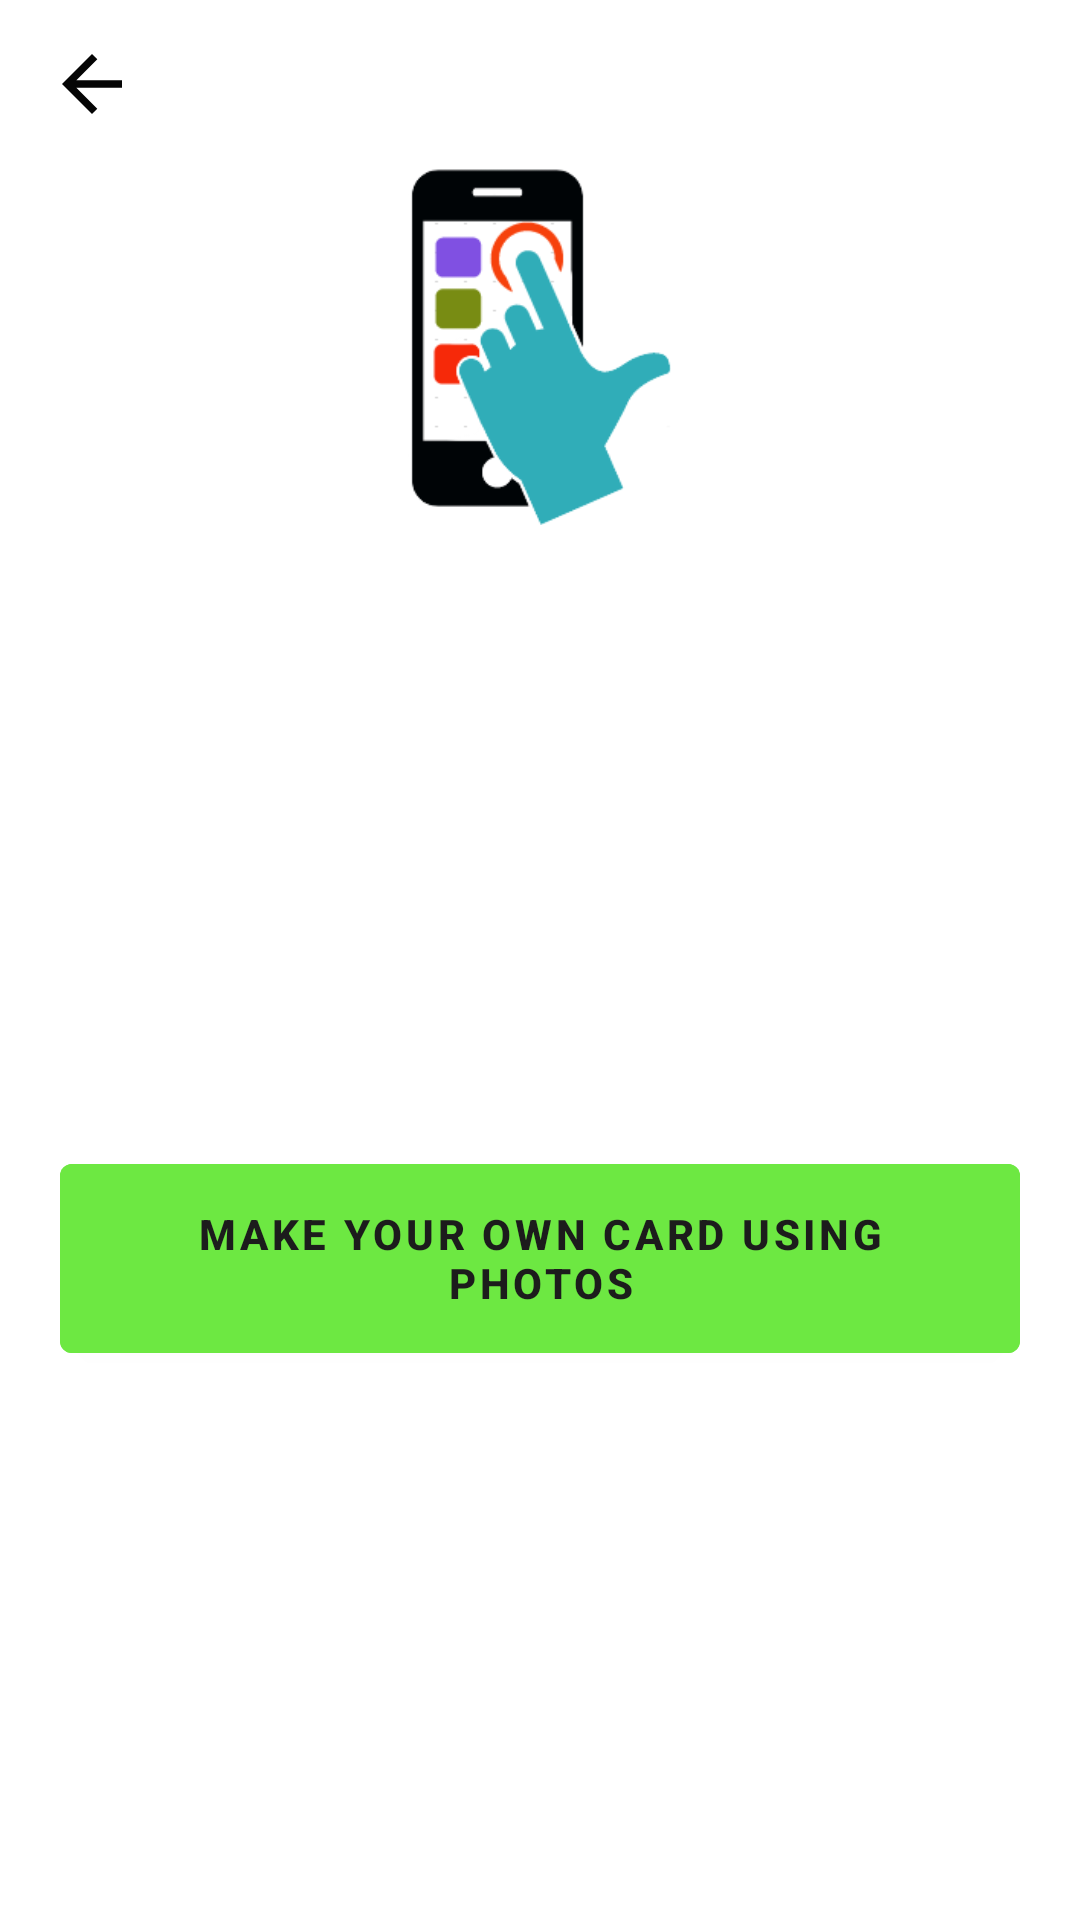

Icon bounding boxes for this 1080 x 1920 phone screenshot, format (x1, y1, x2, y2):
back arrow: (62, 54, 122, 114)
